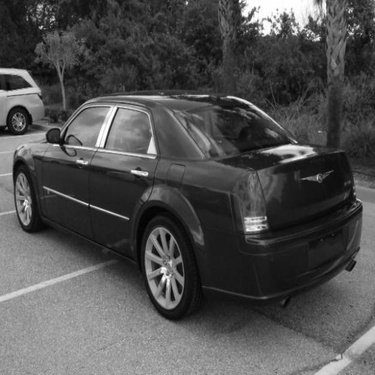car: (9, 83, 366, 324), (3, 63, 50, 138)
